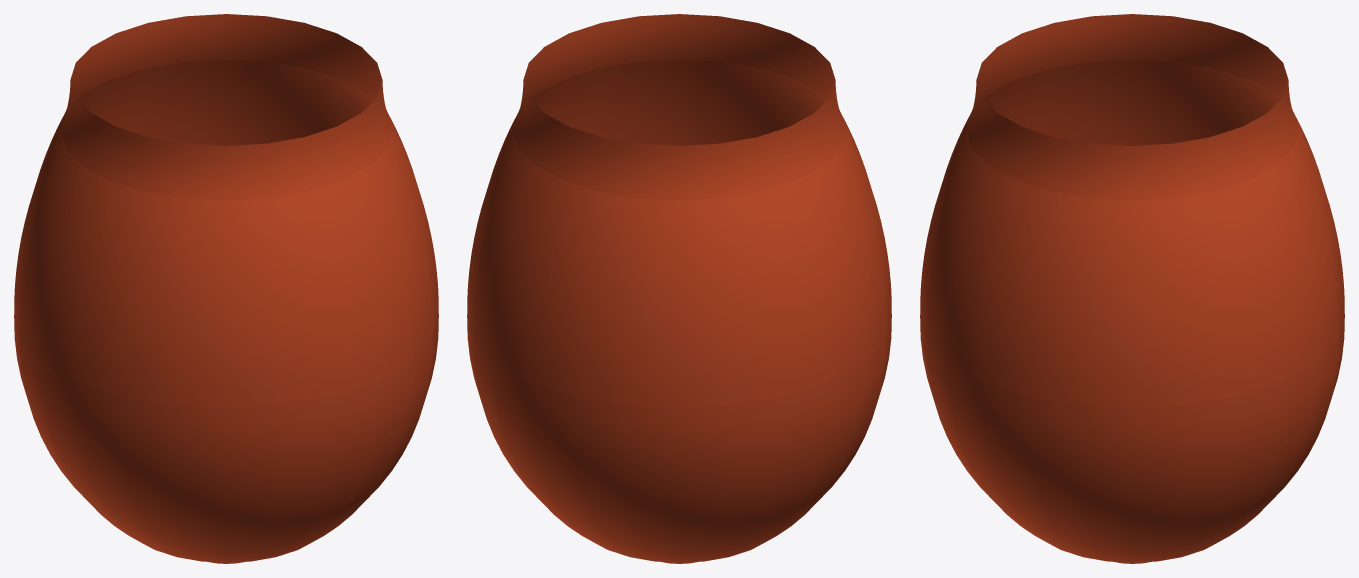
Rendered from beer_red.obj.
The picture shows the model from 3 angles, left to right: view 1: azimuth 30°, elevation 25°; view 2: azimuth 150°, elevation 25°; view 3: azimuth 270°, elevation 25°; orthographic projection.
Visible parts, largest first — view 1: Mesh1 G_13oz_Libbey_Belgian_Snifter1 Model; view 2: Mesh1 G_13oz_Libbey_Belgian_Snifter1 Model; view 3: Mesh1 G_13oz_Libbey_Belgian_Snifter1 Model.
Part boxes in pixels (bbox=[...]): Mesh1 G_13oz_Libbey_Belgian_Snifter1 Model: bbox=[14, 14, 438, 563]; Mesh1 G_13oz_Libbey_Belgian_Snifter1 Model: bbox=[467, 14, 891, 563]; Mesh1 G_13oz_Libbey_Belgian_Snifter1 Model: bbox=[920, 14, 1344, 563].
Bounding box in the file's own units: 2.78 × 3.43 × 2.78.
